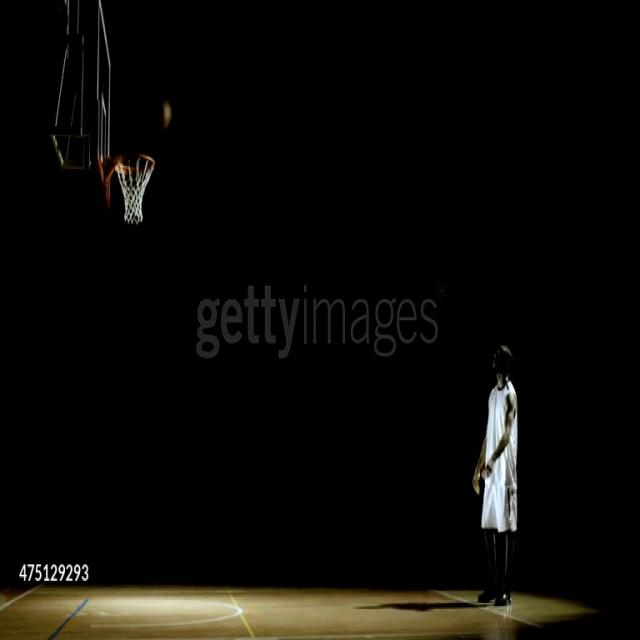ball: (155, 96, 173, 134)
